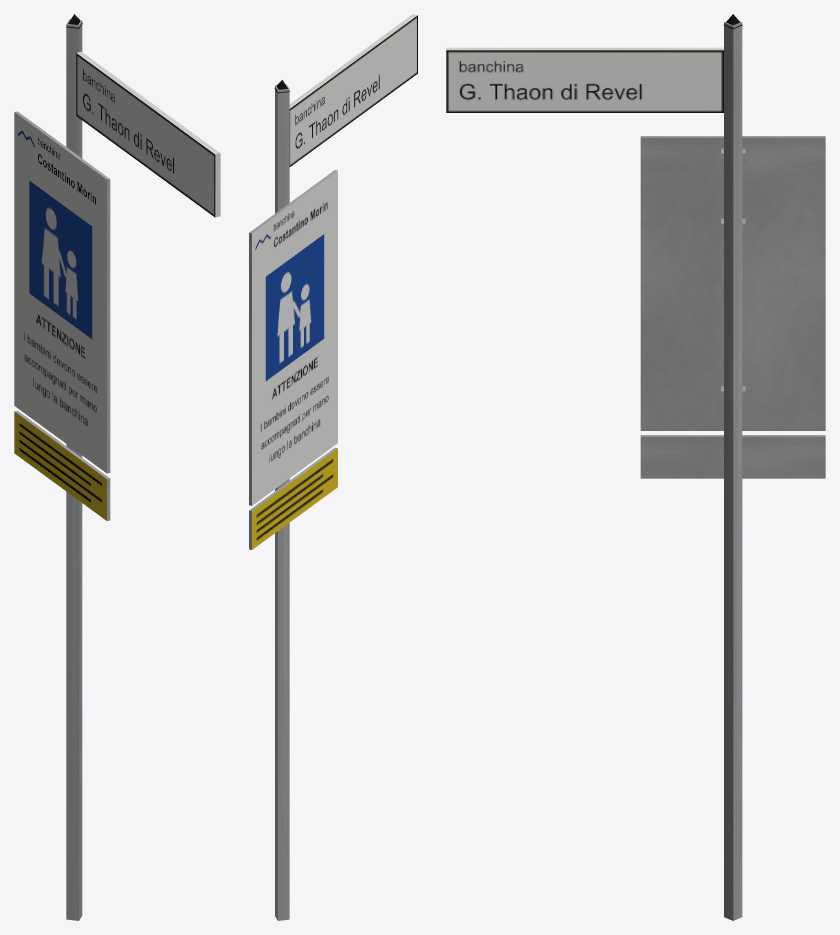
File: SM_Morin_PaloCartelli_LOD1.fbx
3 views of the same model, side by side, from view 1: azimuth 30°, elevation 25°; view 2: azimuth 150°, elevation 25°; view 3: azimuth 270°, elevation 25° (orthographic). The views are drawn at different scales.
Visible parts, largest first — view 1: SM_Morin_PaloCartelli_LOD1; view 2: SM_Morin_PaloCartelli_LOD1; view 3: SM_Morin_PaloCartelli_LOD1.
Part boxes in pixels (x1,y1,x2,y2): SM_Morin_PaloCartelli_LOD1: (14,14,220,920); SM_Morin_PaloCartelli_LOD1: (249,14,417,920); SM_Morin_PaloCartelli_LOD1: (446,14,825,920).
Size of the model in its own units: 8.3 by 123 by 323.
Materials: 1 (1 with a texture image).
